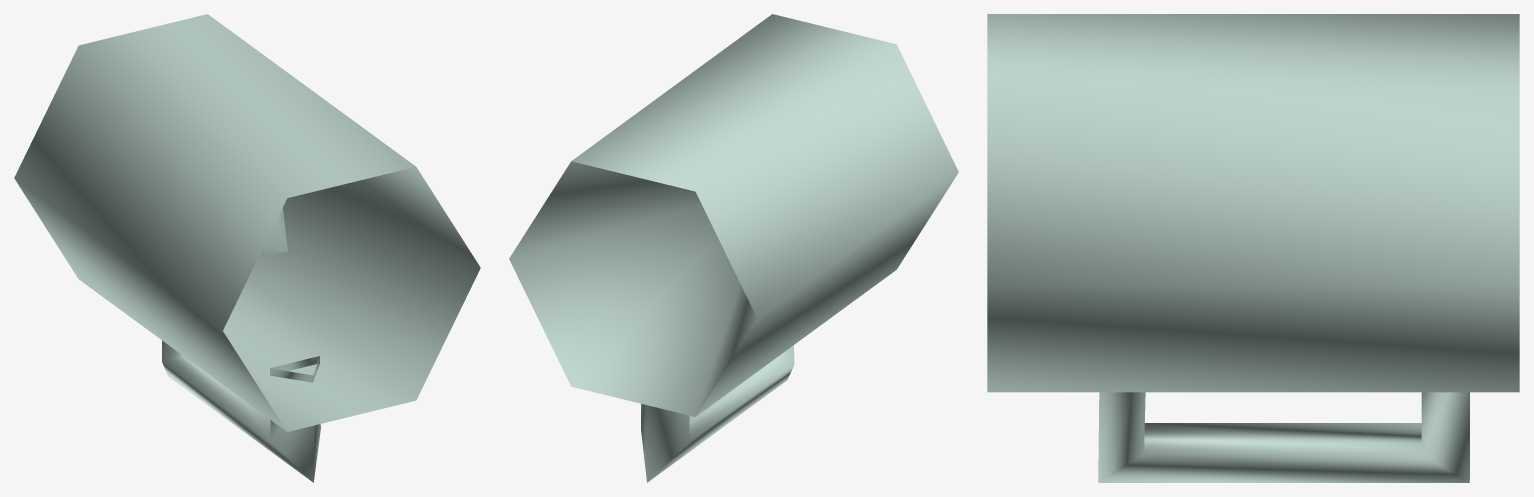
3 renders of one model, left to right at view 1: azimuth 30°, elevation 25°; view 2: azimuth 150°, elevation 25°; view 3: azimuth 270°, elevation 25°, orthographic. The views are drawn at different scales.
Visible parts, largest first — view 1: Object45; view 2: Object45; view 3: Object45.
Part boxes in pixels (x1,y1,x2,y2): Object45: (14, 14, 480, 482); Object45: (509, 14, 958, 482); Object45: (987, 14, 1519, 482).
Size of the model in its own units: 1963 by 2425 by 2750.
